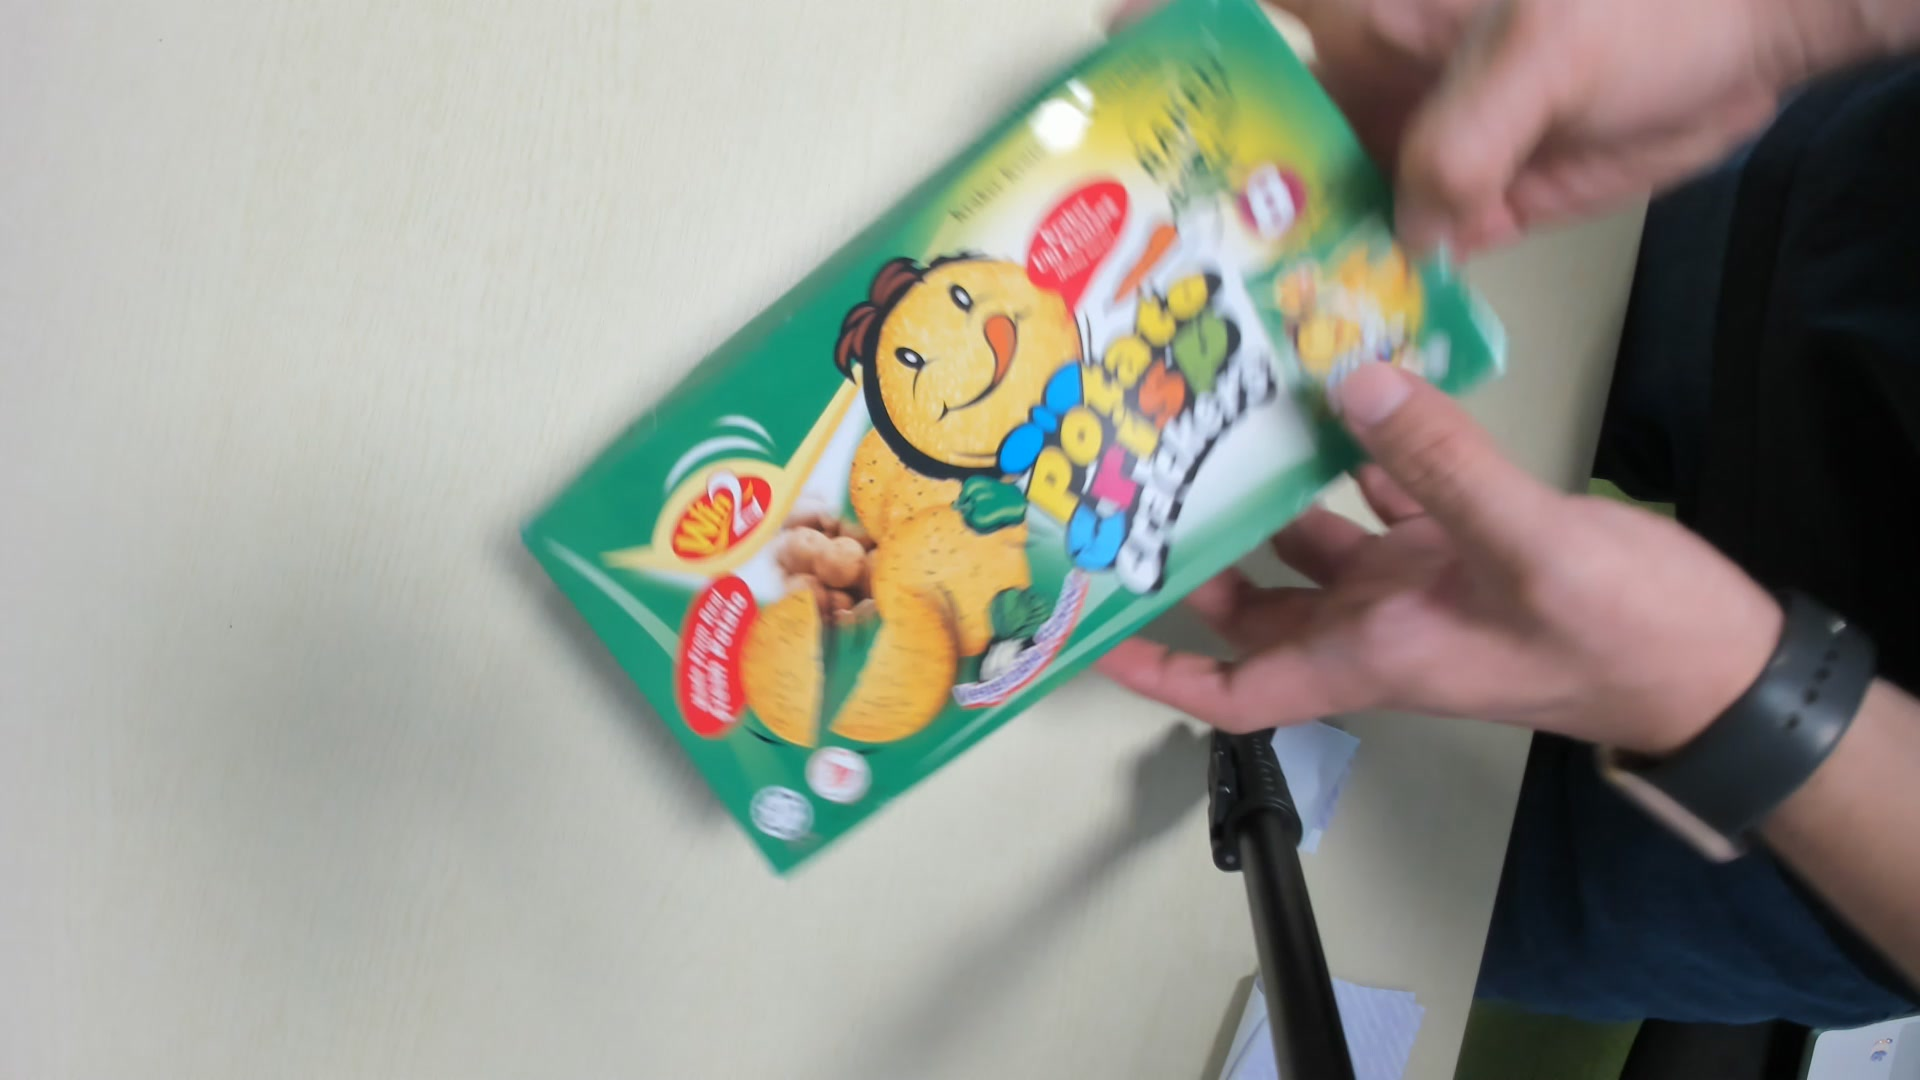PotatoChipsKeropok_100-200g_Halal_Healthy: (524, 7, 1514, 895)
